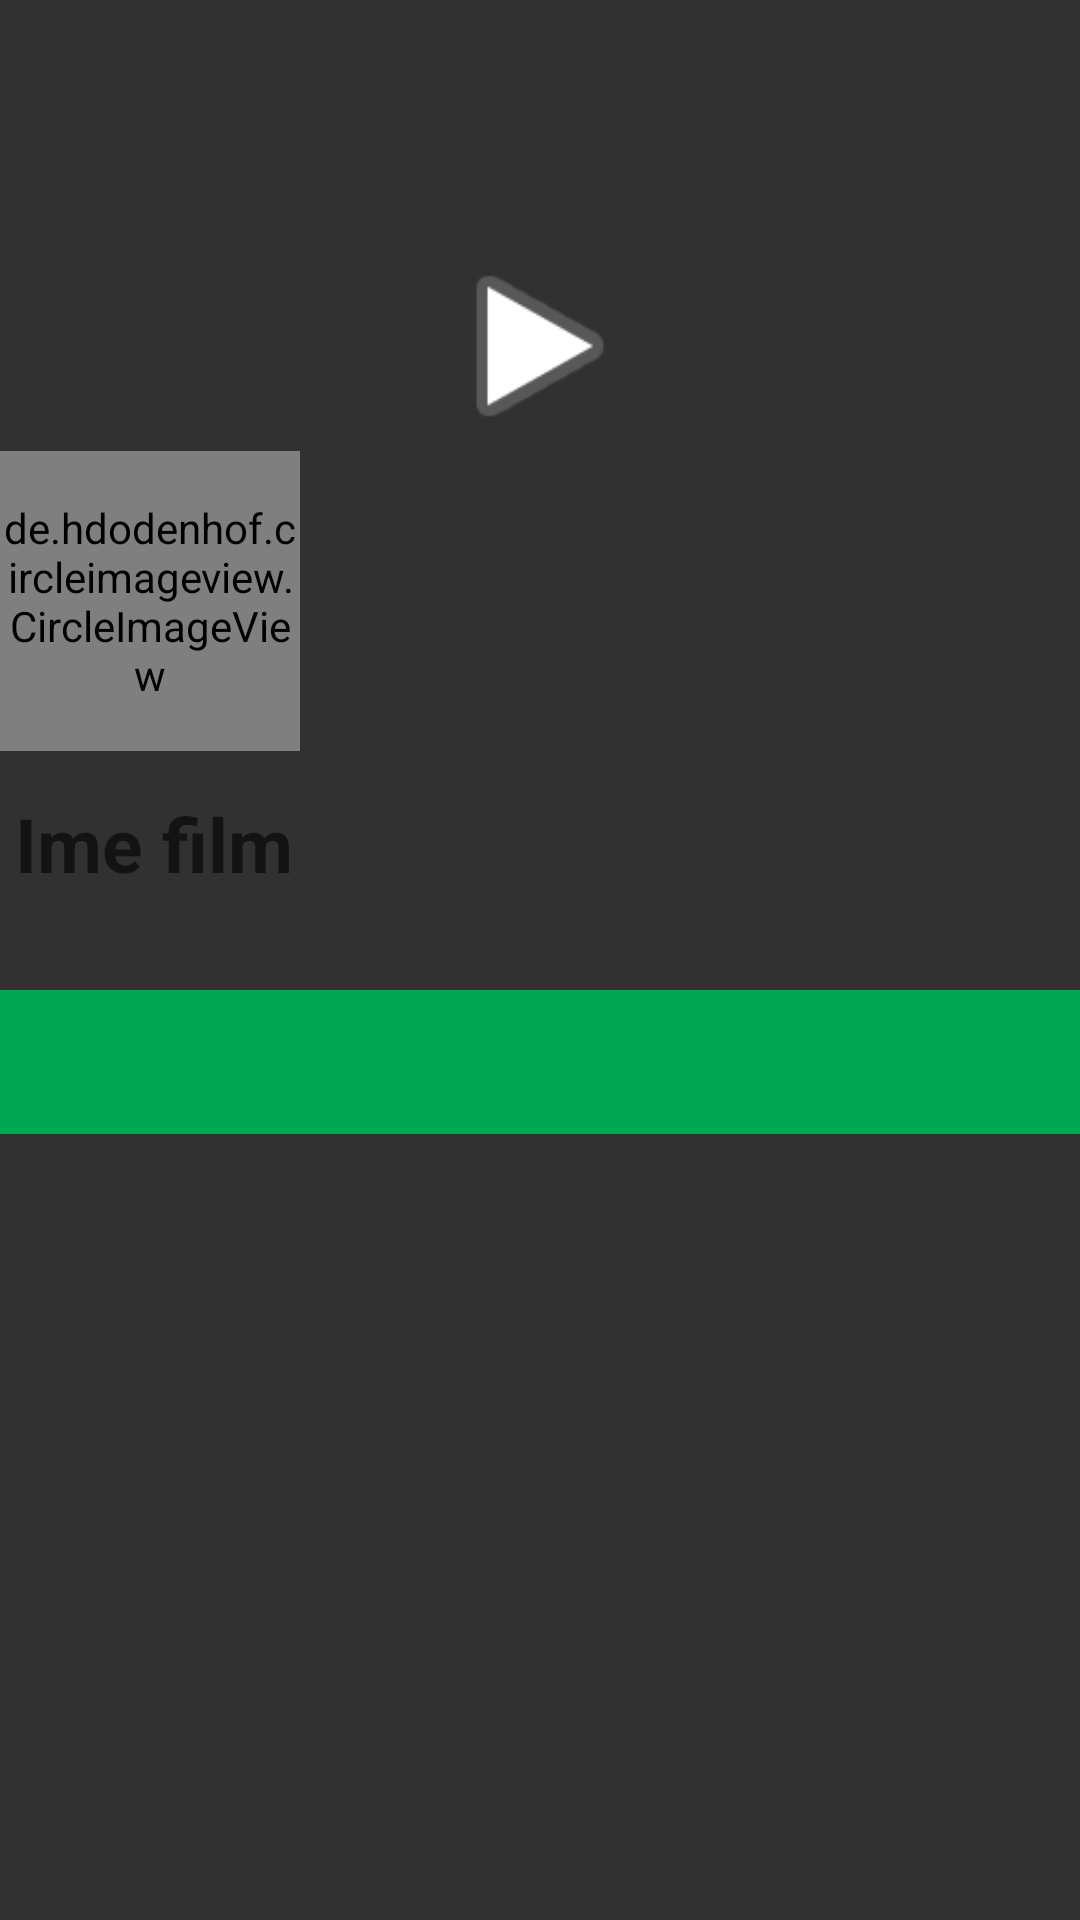

Icon click points for this 1080*1920 phone screenshot, format (x,y):
play: (540,346)
